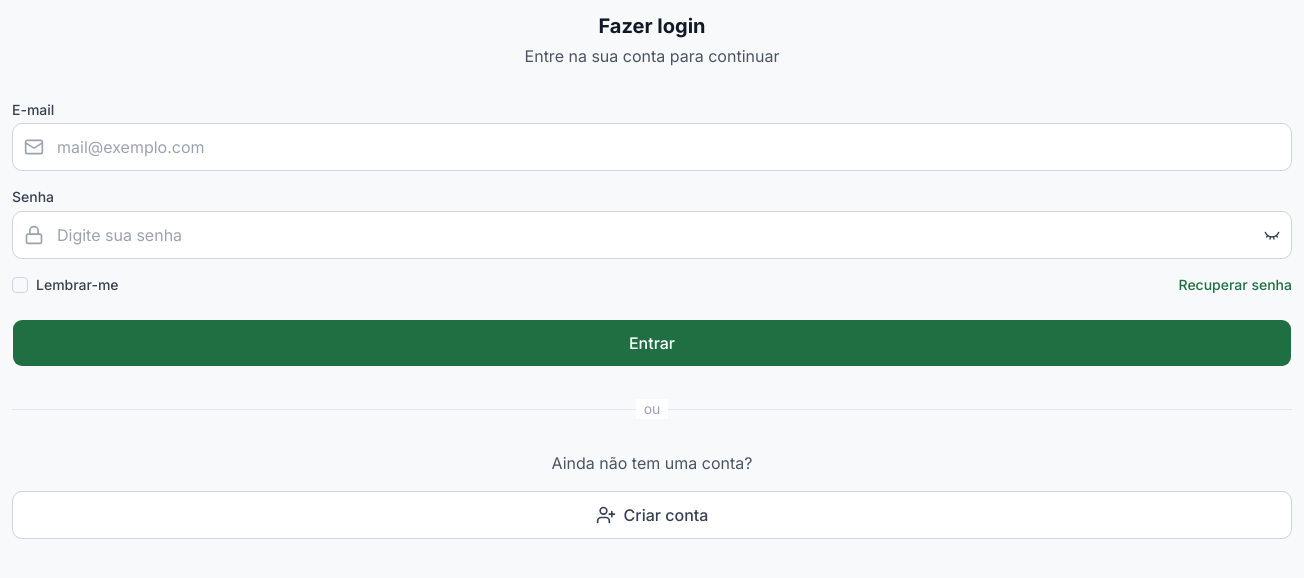
Test case: SignIn › rejects an invalid email format
Type "nao-e-email" into the field labelled "E-mail" at (652, 147), box [12,123,1292,171]
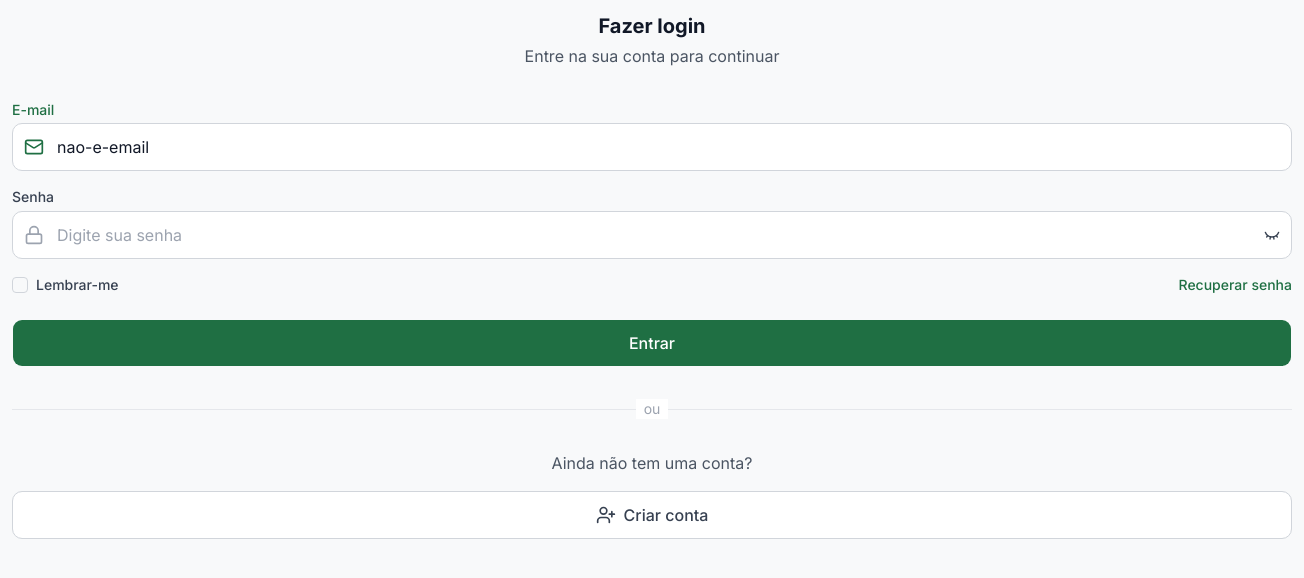
Type "12345678" into the password field labelled "Senha" at (652, 234), box [12,210,1292,258]
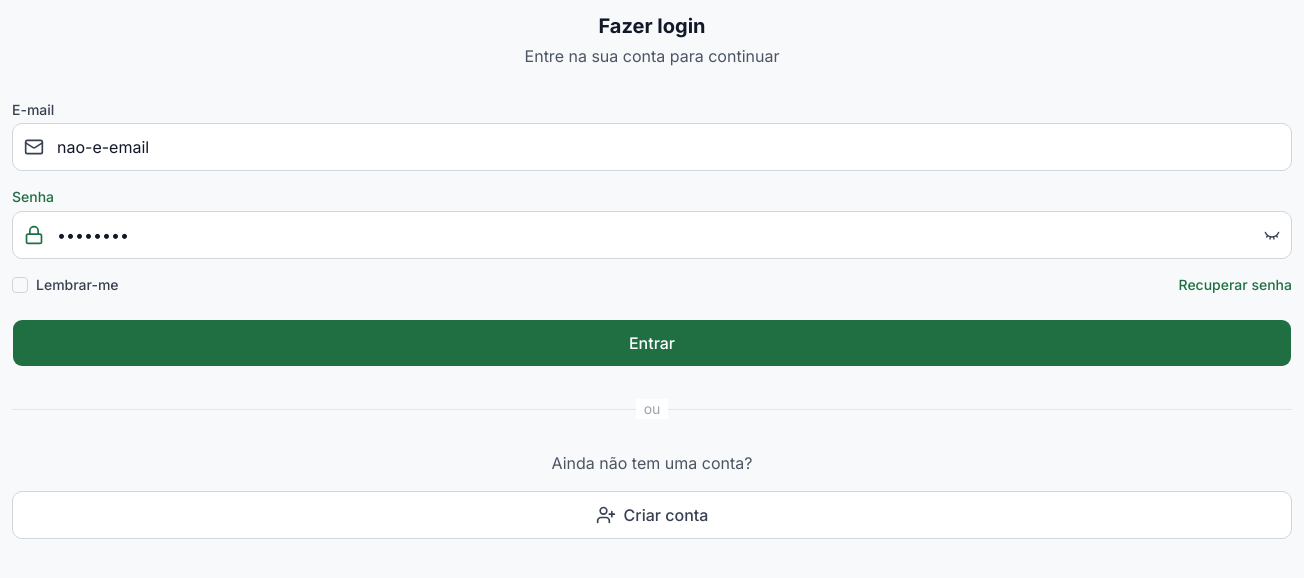
Click the button "Entrar" at (652, 342), box [12,318,1292,366]
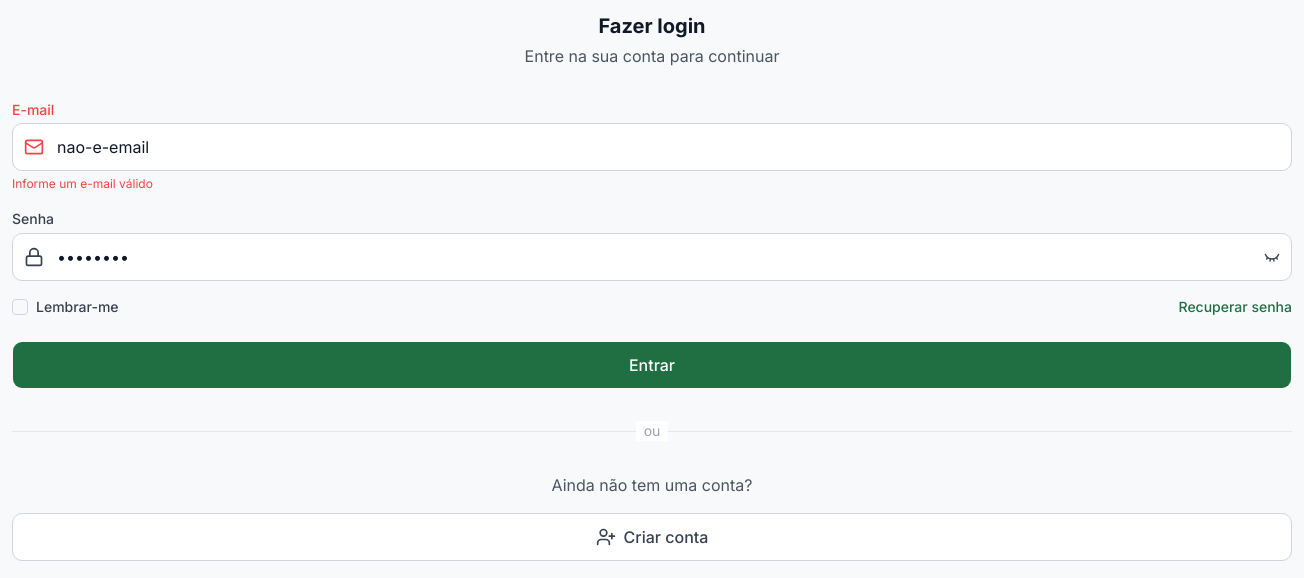
Expected: the text "Informe um e-mail válido" is shown, [12,176,153,191]
